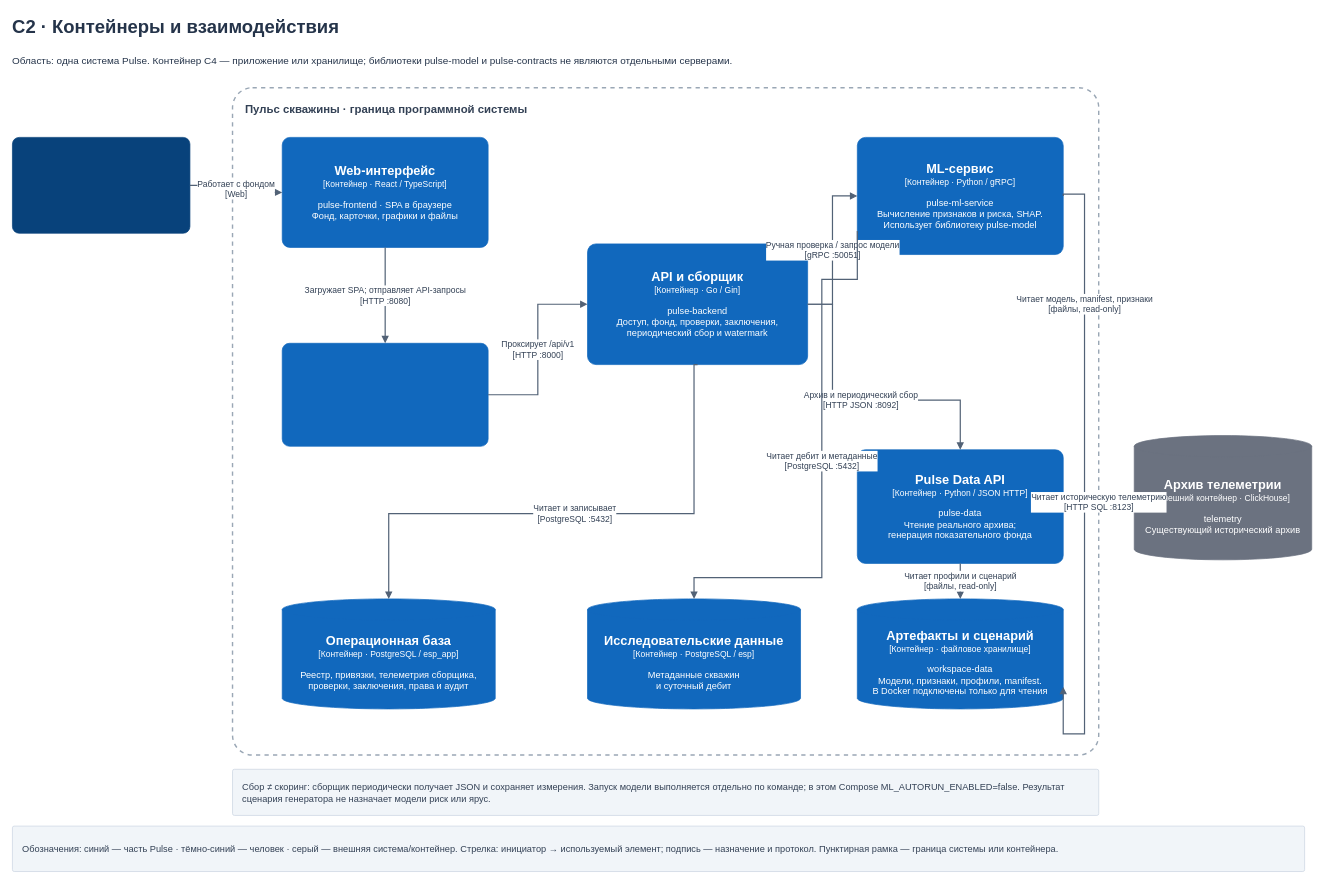
Image size: 1324x884. Some labels were removed from this diagram. The centre of each missing label's shape, as x and y in pixels:
Web-сервер [Контейнер · Nginx] pulse-frontend Раздаёт SPA и проксирует /api: the point at 385,394
Пользователь [Человек] Технолог / администратор: the point at 101,185
